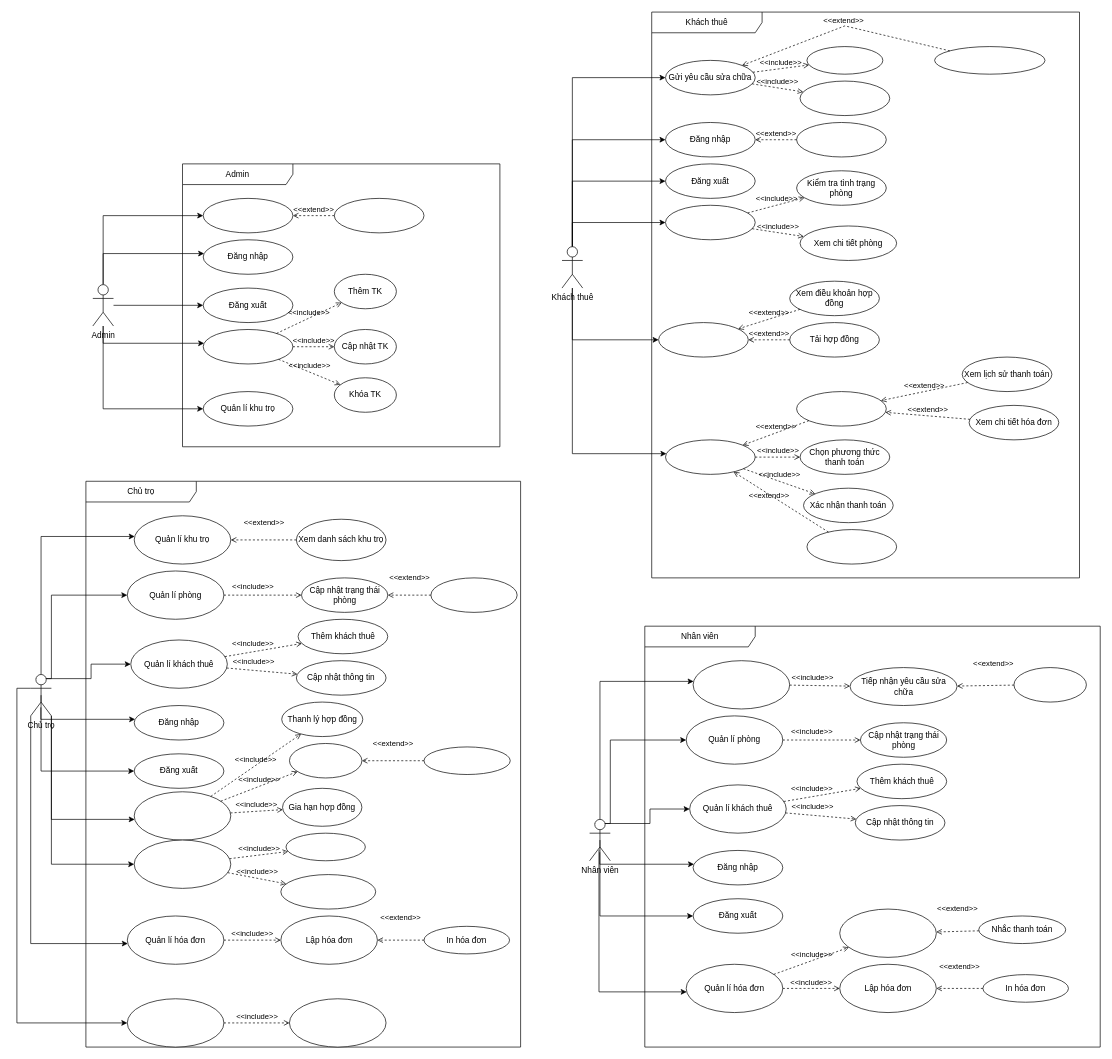
Image size: 1112x1059. Some labels were removed from this diagram. Each missing label, with the centre of its shape:
Báo cáo doanh thu: (x=175, y=1022)
Chọn loại sự cố: (x=844, y=98)
Cập nhật đơn giá dich vụ: (x=328, y=891)
Ghi điện nước: (x=325, y=846)
In hợp đồng: (x=466, y=760)
Kiểm tra thanh toán: (x=887, y=932)
Mô tả sự cố: (x=844, y=60)
Ngưng vận hành phòng: (x=473, y=594)
Quản lí dịch vụ: (x=182, y=863)
Quản lí hợp đồng: (x=182, y=815)
Quản lí tài khoản: (x=248, y=346)
Thanh toán hóa đơn: (x=710, y=456)
Theo dõi tình trạng sửa chữa: (x=989, y=60)
Theo dõi tình trạng xử lí: (x=1049, y=684)
Thống kê doanh thu: (x=337, y=1022)
Tạo hợp đồng: (x=325, y=760)
Xem báo cáo: (x=248, y=215)
Xem hóa đơn: (x=841, y=408)
Xem hợp đồng: (x=703, y=339)
Xem thông tin phòng: (x=710, y=222)
Xuất biên lai: (x=851, y=546)
Xuất báo cáo: (x=379, y=215)
xử lí sự cố: (x=741, y=684)
Đổi mật khẩu: (x=841, y=139)
